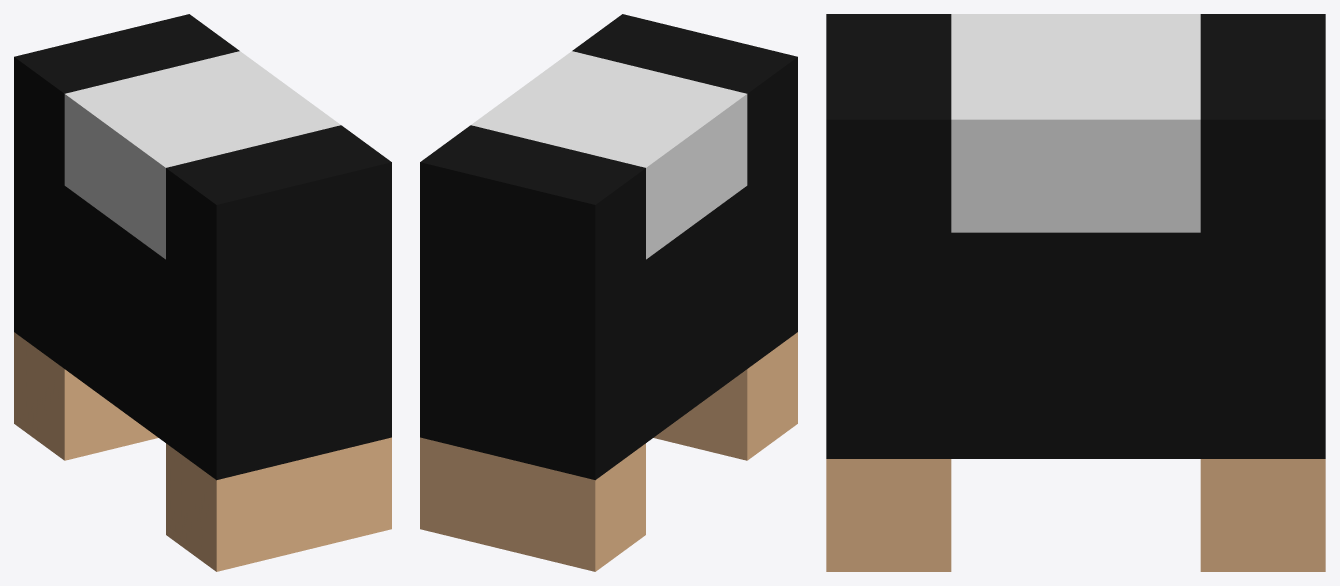
File: body5.obj
The picture shows the model from 3 angles, left to right: view 1: azimuth 30°, elevation 25°; view 2: azimuth 150°, elevation 25°; view 3: azimuth 270°, elevation 25°; orthographic projection. The views are drawn at different scales.
Size of the model in its own units: 0.2 by 0.4 by 0.4.
1 material, 1 textured.
